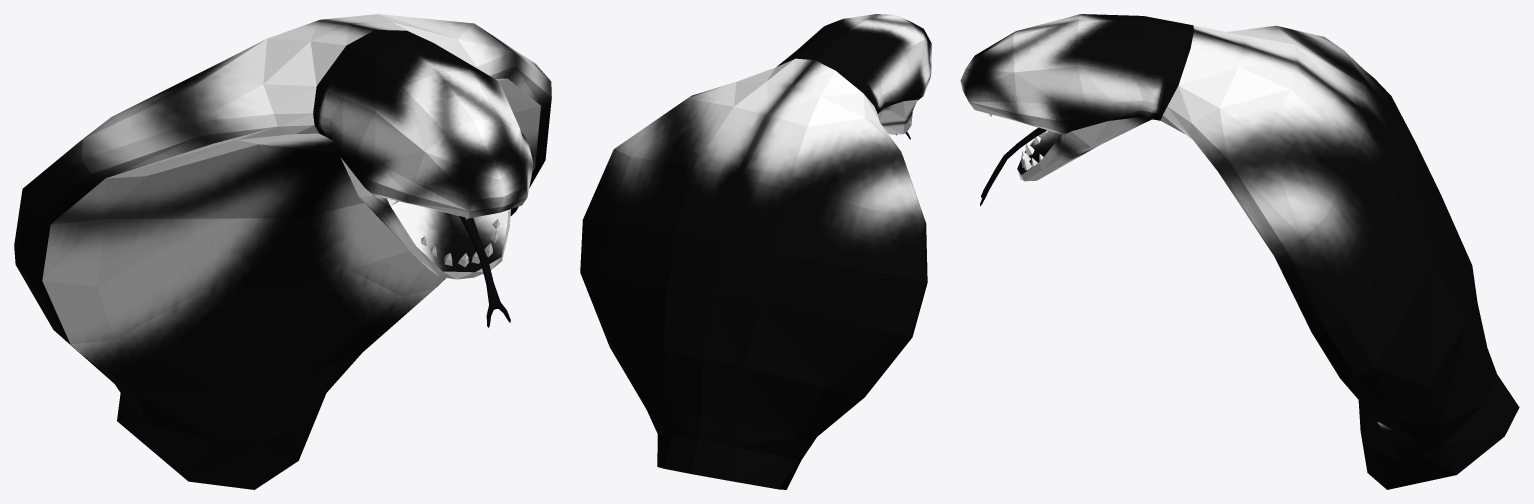
File: 0027_HT_FX_ABaiGuai_dashetou.glb
3 renders of one model, left to right at view 1: azimuth 30°, elevation 25°; view 2: azimuth 150°, elevation 25°; view 3: azimuth 270°, elevation 25°, orthographic. The views are drawn at different scales.
Bounding box in the file's own units: 1.94 × 1.99 × 2.2.
Materials: 1 (1 with a texture image).
